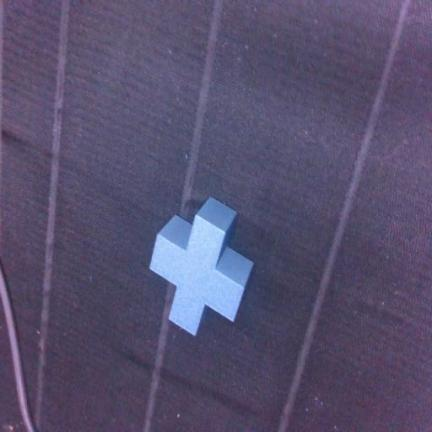cross: (151, 199, 253, 334)
